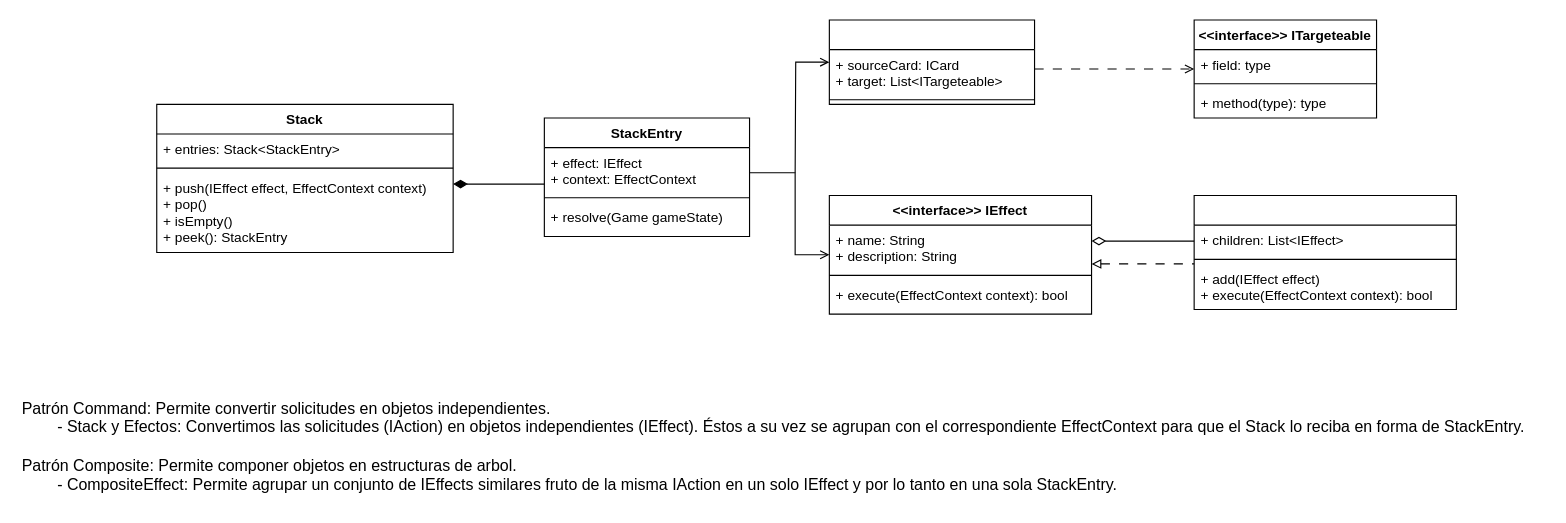
Image size: 1566x523. Some labels were removed from this diagram. Here are the shapes that lost their labels. From the top down, the box of each, then its label:
(828, 19, 1035, 104): EffectContext
(1193, 194, 1456, 310): CompositeEffect
